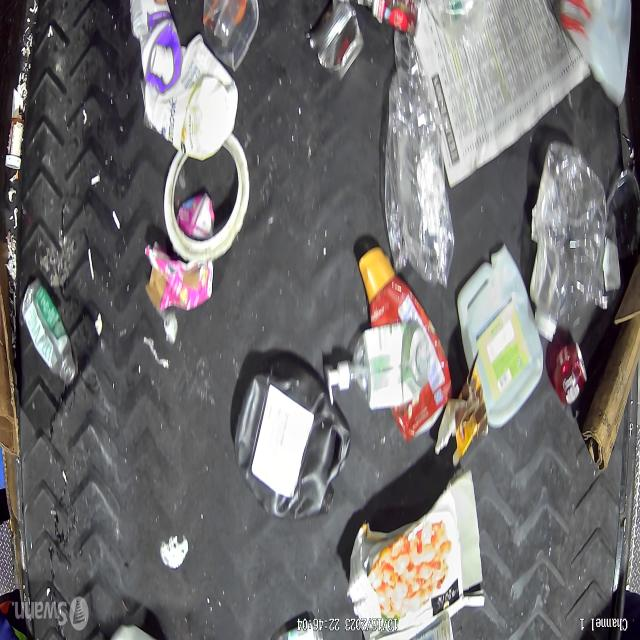can: (308, 0, 364, 85), (550, 341, 586, 405)
milk_jug: (458, 247, 545, 429), (558, 1, 632, 108)
non_white_jug: (233, 354, 348, 520)
plastic_bottle: (384, 29, 456, 286), (531, 143, 608, 341), (332, 318, 432, 409), (20, 281, 80, 390)
